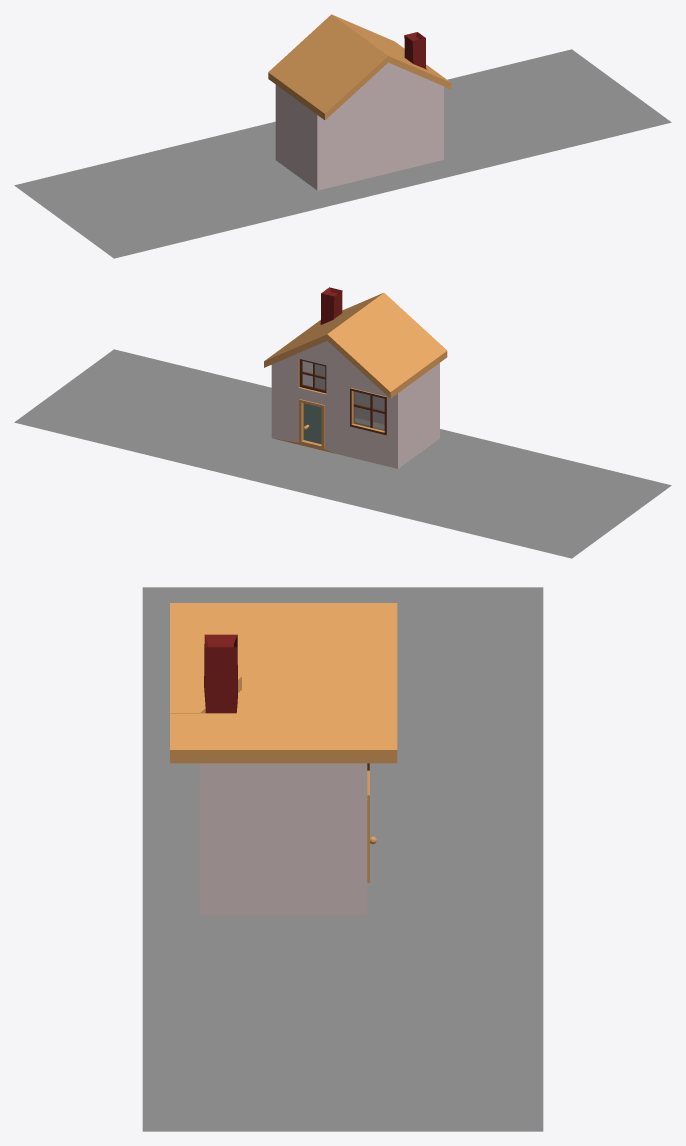
The model's file is house1.glb.
The picture shows the model from 3 angles, top to bottom: view 1: azimuth 30°, elevation 25°; view 2: azimuth 150°, elevation 25°; view 3: azimuth 270°, elevation 25°; orthographic projection. The views are drawn at different scales.
Parts seen in each view (by area): view 1: Plane, house; view 2: Plane, house, window2, window1; view 3: Plane, house.
Part boxes in pixels (left/top/right/bottom): Plane: left=14, top=49, right=671, bottom=258; house: left=268, top=14, right=451, bottom=190; Plane: left=14, top=349, right=671, bottom=558; house: left=264, top=287, right=447, bottom=468; window2: left=353, top=391, right=384, bottom=429; window1: left=299, top=359, right=326, bottom=393; Plane: left=142, top=587, right=543, bottom=1131; house: left=170, top=603, right=397, bottom=914.
Size of the model in its own units: 15.42 by 3.42 by 4.79.
